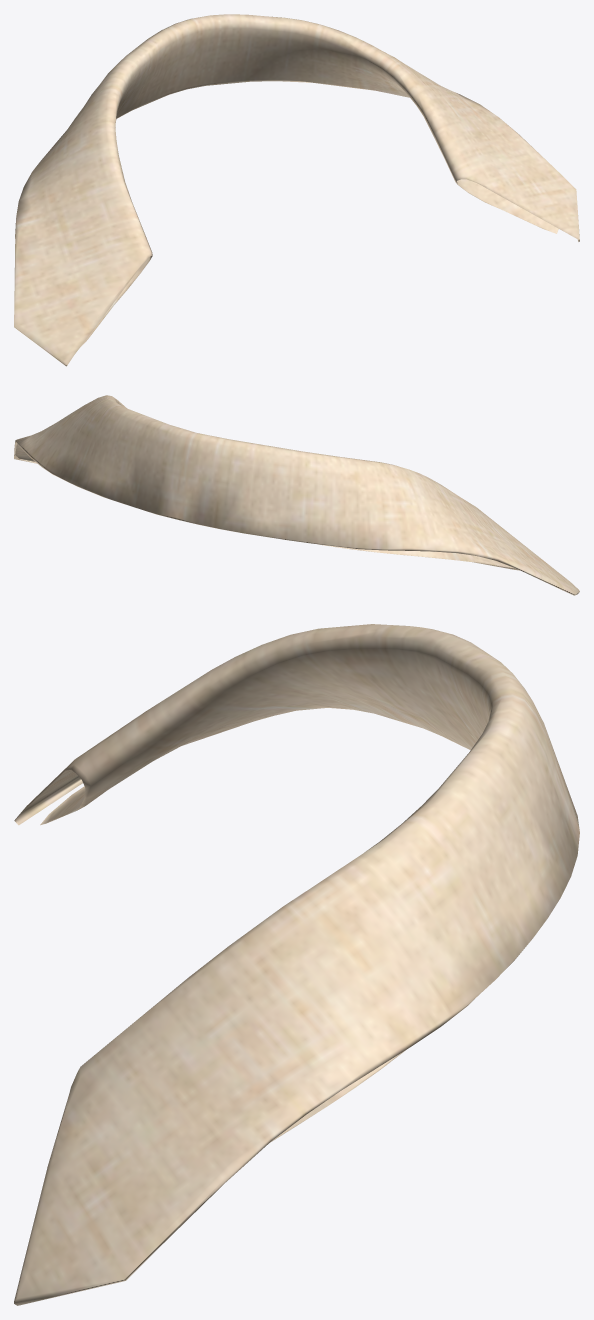
Rendered from Notch_Collar_new.glb.
The picture shows the model from 3 angles, top to bottom: view 1: azimuth 30°, elevation 25°; view 2: azimuth 150°, elevation 25°; view 3: azimuth 270°, elevation 25°; orthographic projection. The views are drawn at different scales.
Parts seen in each view (by area): view 1: Notch_Collar; view 2: Notch_Collar; view 3: Notch_Collar.
Part boxes in pixels (x1,y1,x2,y2): Notch_Collar: (14, 14, 579, 366); Notch_Collar: (14, 395, 579, 595); Notch_Collar: (14, 624, 579, 1305).
Bounding box in the file's own units: 0.0363 × 0.0118 × 0.0164.
Materials: 1 (1 with a texture image).
